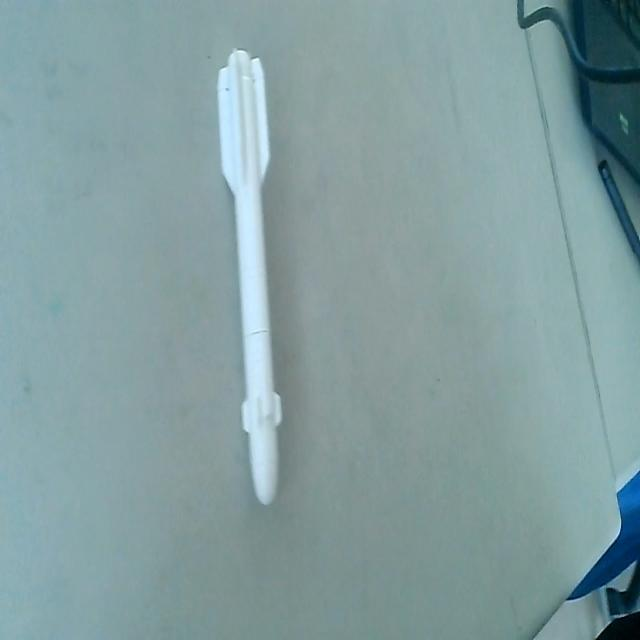Rocket: (216, 49, 285, 510)
